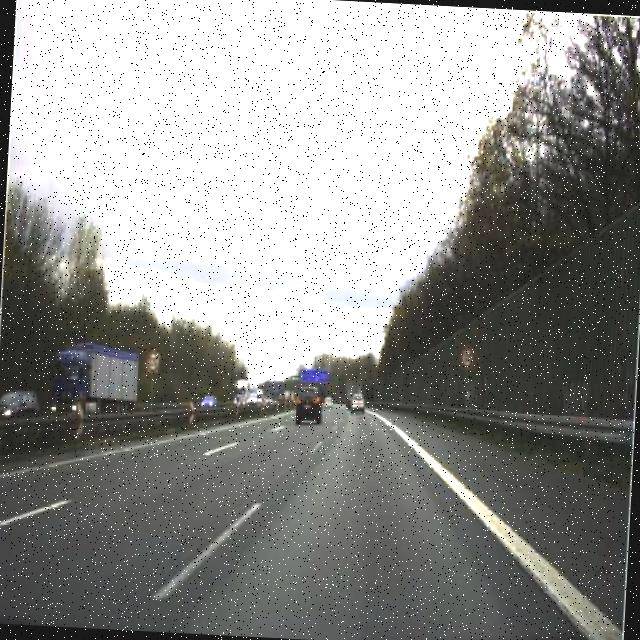Ograniczenie predkosci do 120: (456, 342, 476, 372), (144, 349, 164, 377)
